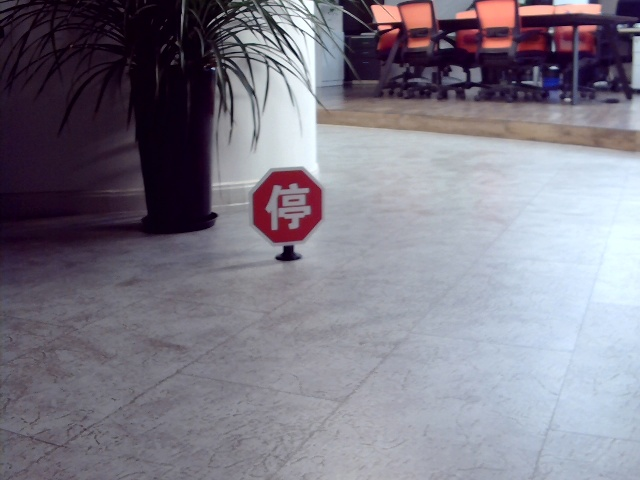stop: (263, 180, 312, 228)
